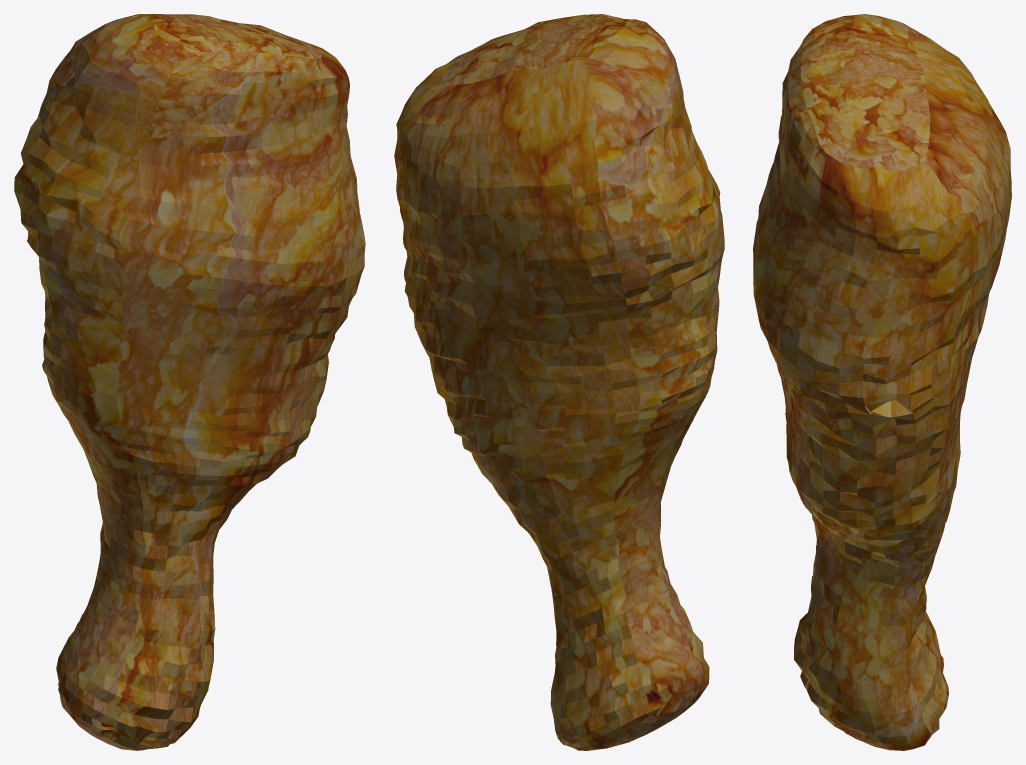
3 renders of one model, left to right at view 1: azimuth 30°, elevation 25°; view 2: azimuth 150°, elevation 25°; view 3: azimuth 270°, elevation 25°, orthographic. The views are drawn at different scales.
Visible parts, largest first — view 1: Cube; view 2: Cube; view 3: Cube.
Boxes of the visible parts, left/top/right/bottom form: Cube: left=14, top=14, right=365, bottom=750; Cube: left=394, top=14, right=724, bottom=750; Cube: left=753, top=14, right=1011, bottom=750.
Bounding box in the file's own units: 1.07 × 2.39 × 0.7786.
1 material, 1 textured.
